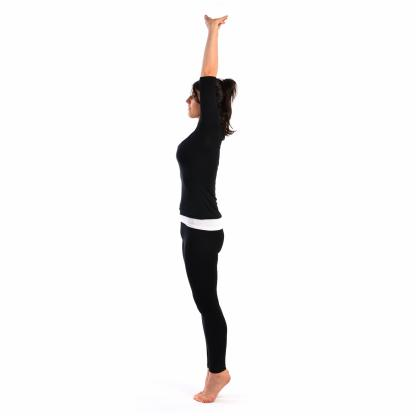tree: (169, 10, 247, 410)
